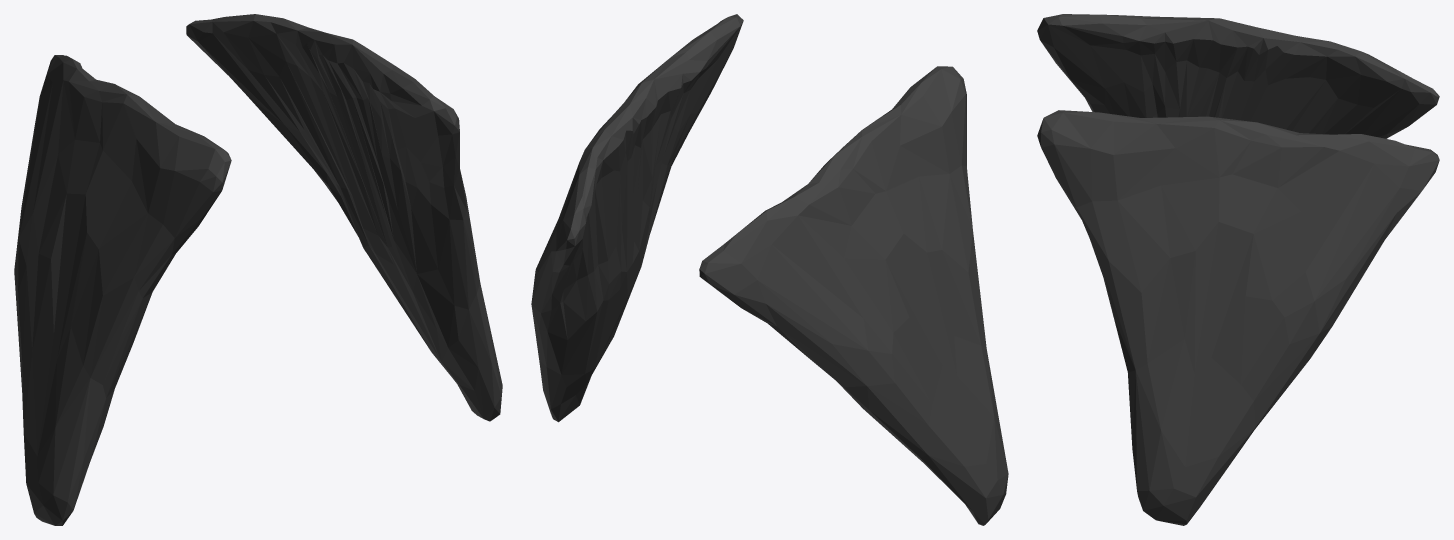
The model's file is m_coccygeus.glb.
3 renders of one model, left to right at view 1: azimuth 30°, elevation 25°; view 2: azimuth 150°, elevation 25°; view 3: azimuth 270°, elevation 25°, orthographic. The views are drawn at different scales.
Visible parts, largest first — view 1: m_coccygeus; view 2: m_coccygeus; view 3: m_coccygeus.
Boxes of the visible parts, box(x1,y1,x2,y2) form: m_coccygeus: box(14, 14, 502, 525); m_coccygeus: box(531, 14, 1008, 525); m_coccygeus: box(1037, 14, 1439, 525).
Size of the model in its own units: 0.00229 by 0.0019 by 0.0019.
1 material, 1 textured.
